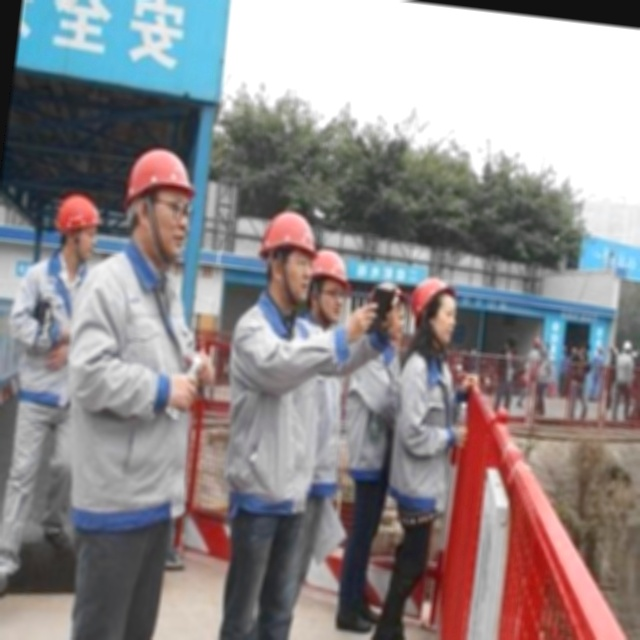Con_Casco: (117, 144, 201, 273), (254, 208, 323, 308)
